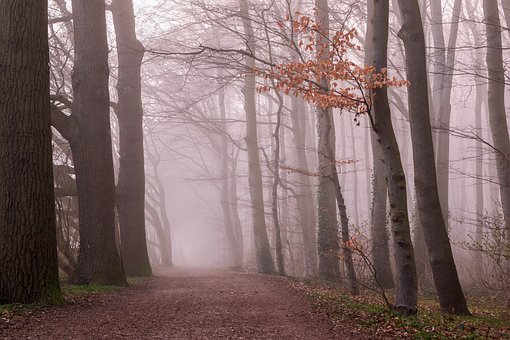forest: (11, 6, 509, 340)
tree: (273, 1, 431, 292), (1, 1, 159, 291)
